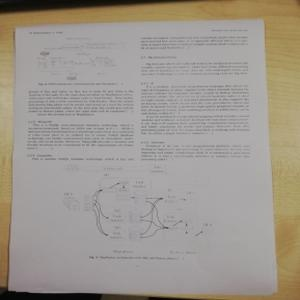diagram: (55, 161, 226, 252), (24, 39, 132, 83)
text: (137, 79, 251, 115), (26, 119, 135, 152), (27, 88, 136, 116), (138, 137, 255, 161), (138, 114, 252, 136), (138, 60, 250, 77), (135, 33, 250, 48)
